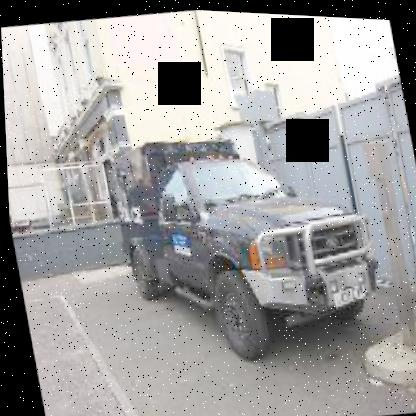emergency: (97, 105, 398, 383)
